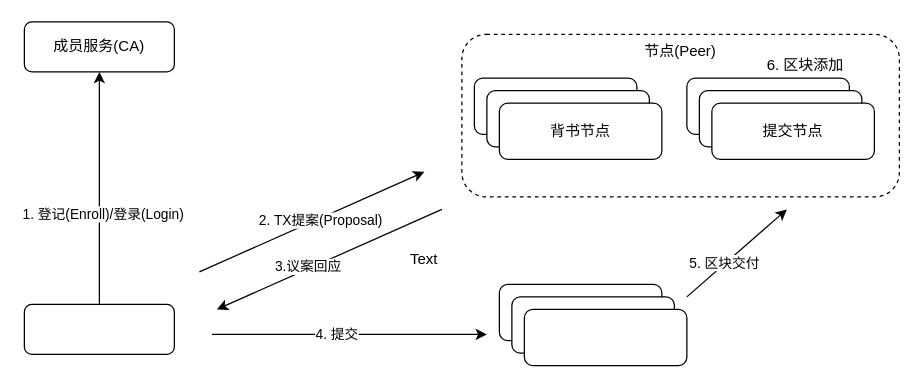
This 921x388 diagram has some shape labels left out. Here are the shapes that lost their labels. From the top down, the centre of each, then its label:
point (98, 328): 应用程序(SDK)
point (605, 337): 排序(Orderer)
